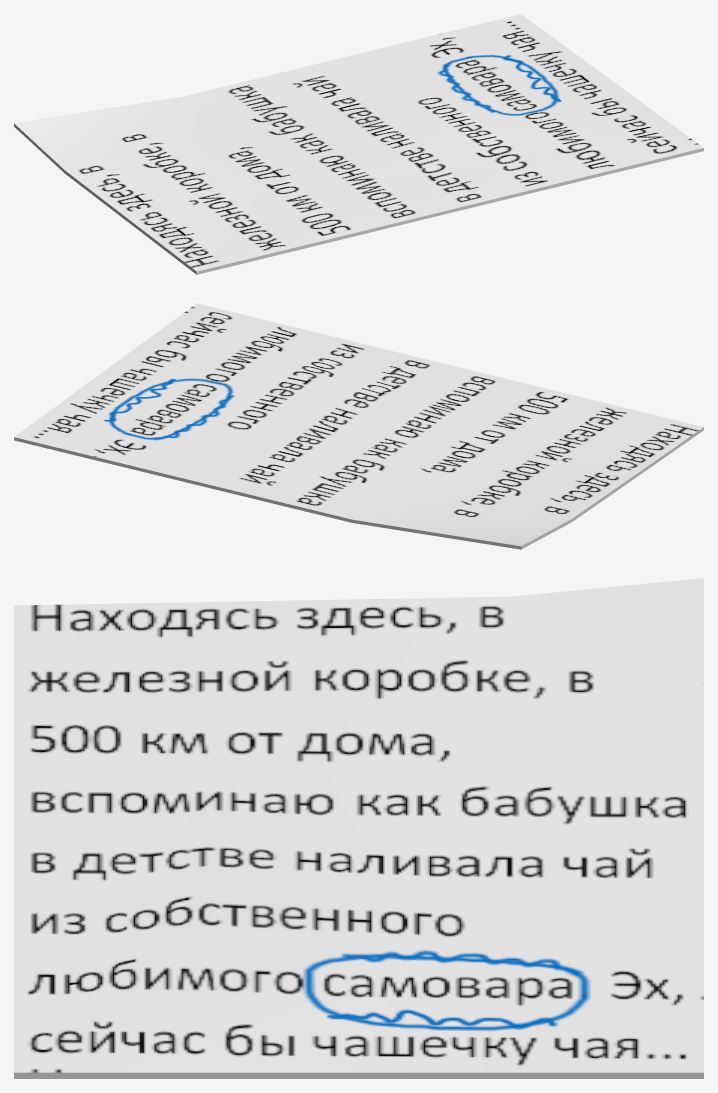
Rendered from RS_note_1.fbx.
3 renders of one model, top to bottom at view 1: azimuth 30°, elevation 25°; view 2: azimuth 150°, elevation 25°; view 3: azimuth 270°, elevation 25°, orthographic. The views are drawn at different scales.
Visible parts, largest first — view 1: note_1; view 2: note_1; view 3: note_1.
Part boxes in pixels (x1,y1,x2,y2): note_1: (14, 14, 703, 274); note_1: (14, 303, 703, 549); note_1: (14, 578, 703, 1078).
Bounding box in the file's own units: 28.07 × 0.9407 × 17.52.
